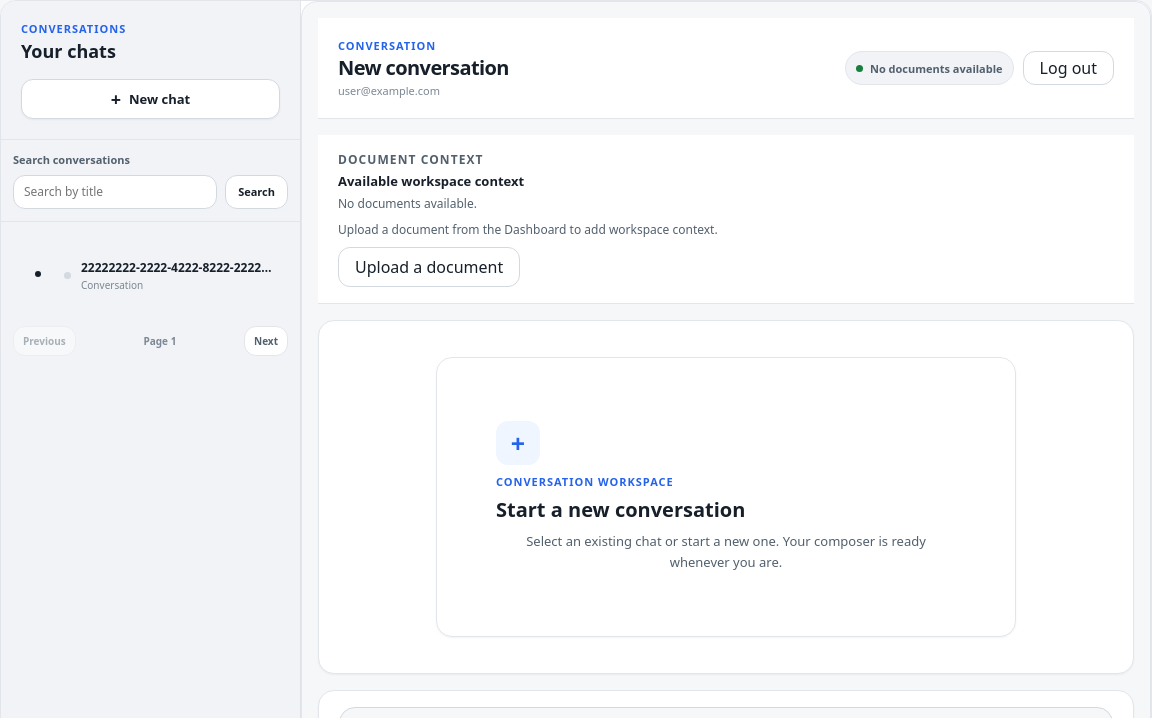
Test: ChatPage › deletes the selected conversation and returns to the new conversation state
Click the button "22222222-2222-4222-8222-222222222222" at (170,276), box [53,250,288,302]
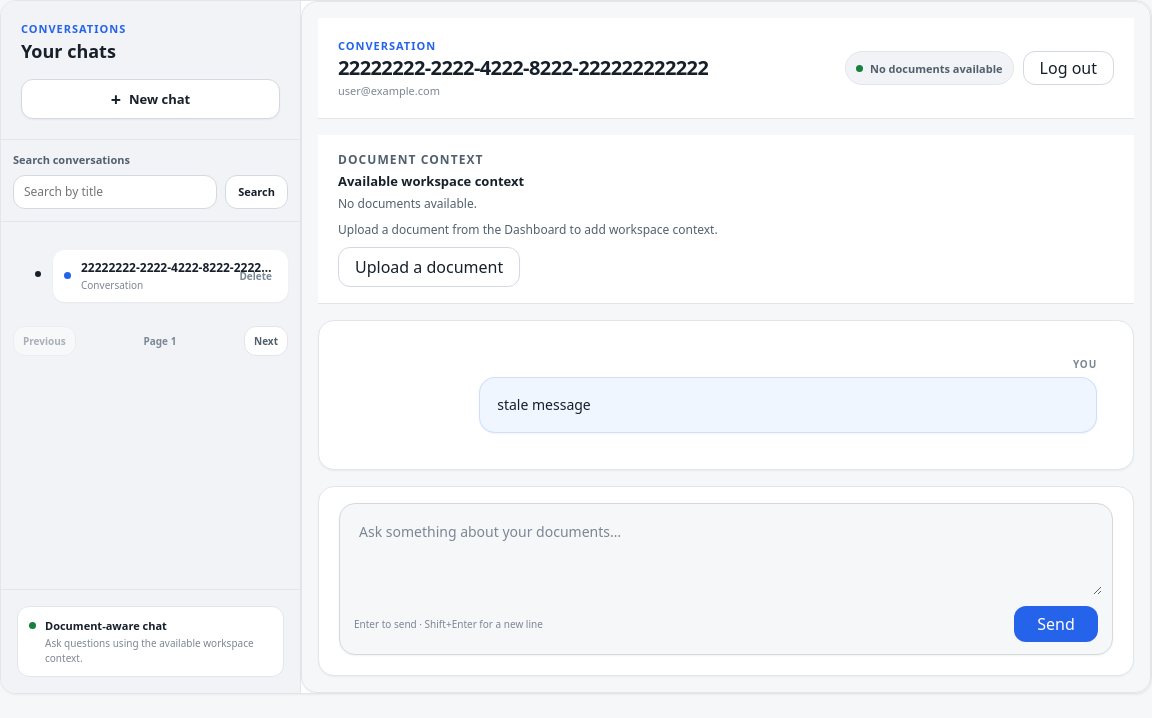
Expected: the text "stale message" is shown, [497,395,591,414]
Click the button "Delete" at (256,276), box [230,262,281,290]
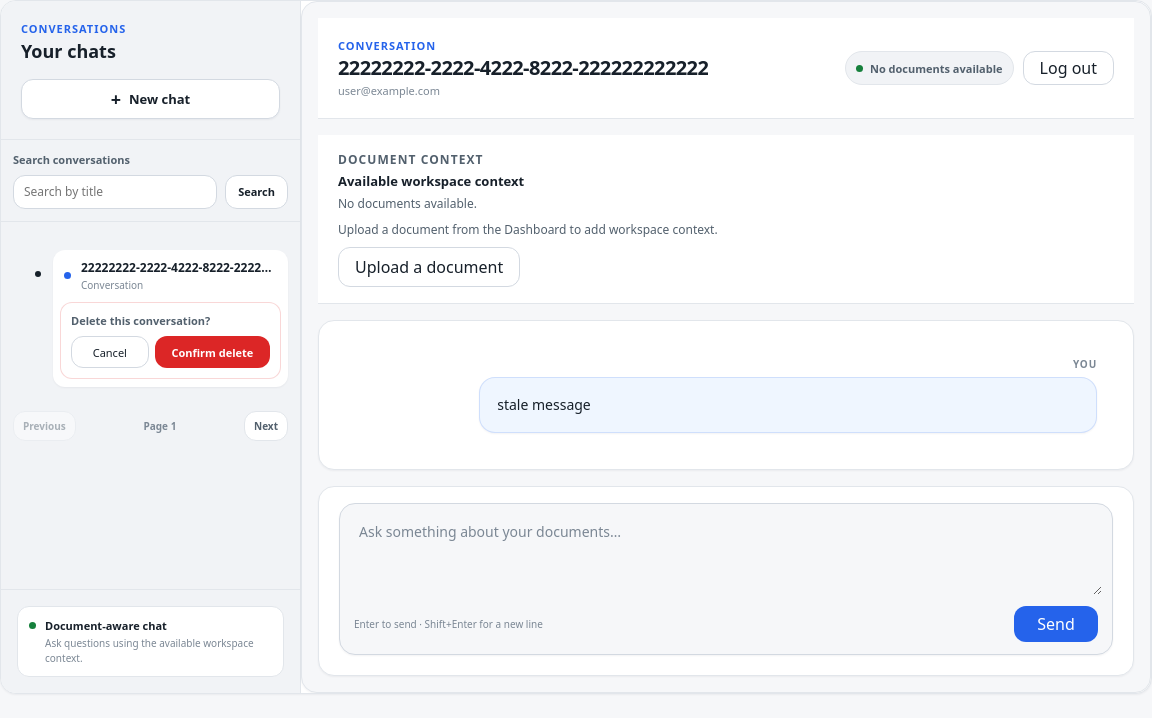
Click the button "Confirm delete" at (212,352), box [155,336,270,368]
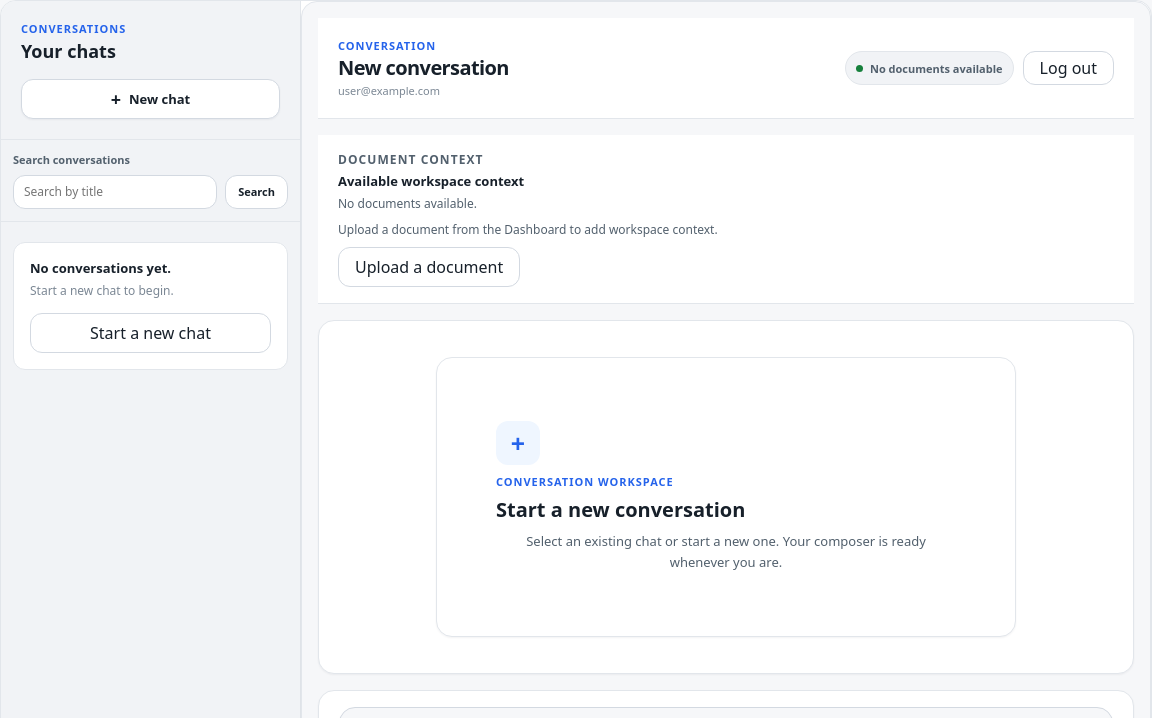
Expected: the button "22222222-2222-4222-8222-222222222222" is gone
Expected: the heading "Start a new conversation" is shown, [496,498,745,522]
Expected: the text "stale message" is gone
